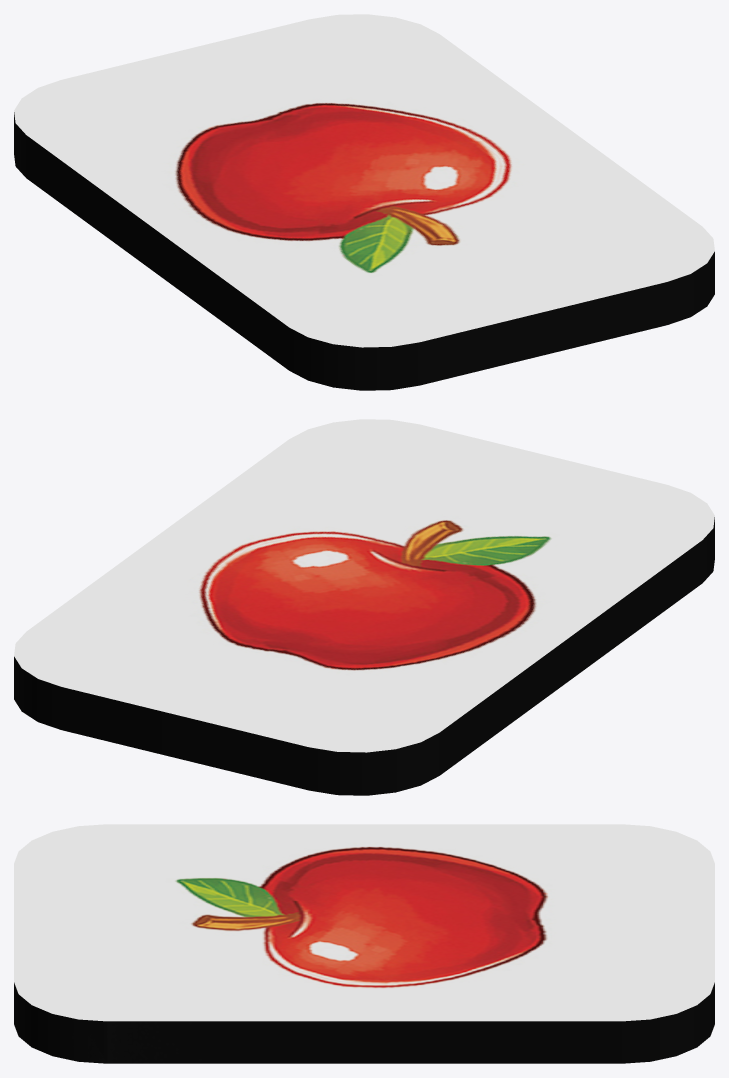
Rendered from card2.fbx.
3 renders of one model, top to bottom at view 1: azimuth 30°, elevation 25°; view 2: azimuth 150°, elevation 25°; view 3: azimuth 270°, elevation 25°, orthographic. The views are drawn at different scales.
Parts seen in each view (by area): view 1: Vert; view 2: Vert; view 3: Vert.
Part boxes in pixels (x1,y1,x2,y2): Vert: [14, 14, 714, 390]; Vert: [14, 419, 714, 795]; Vert: [14, 824, 714, 1063].
Bounding box in the file's own units: 500 × 50 × 751.
